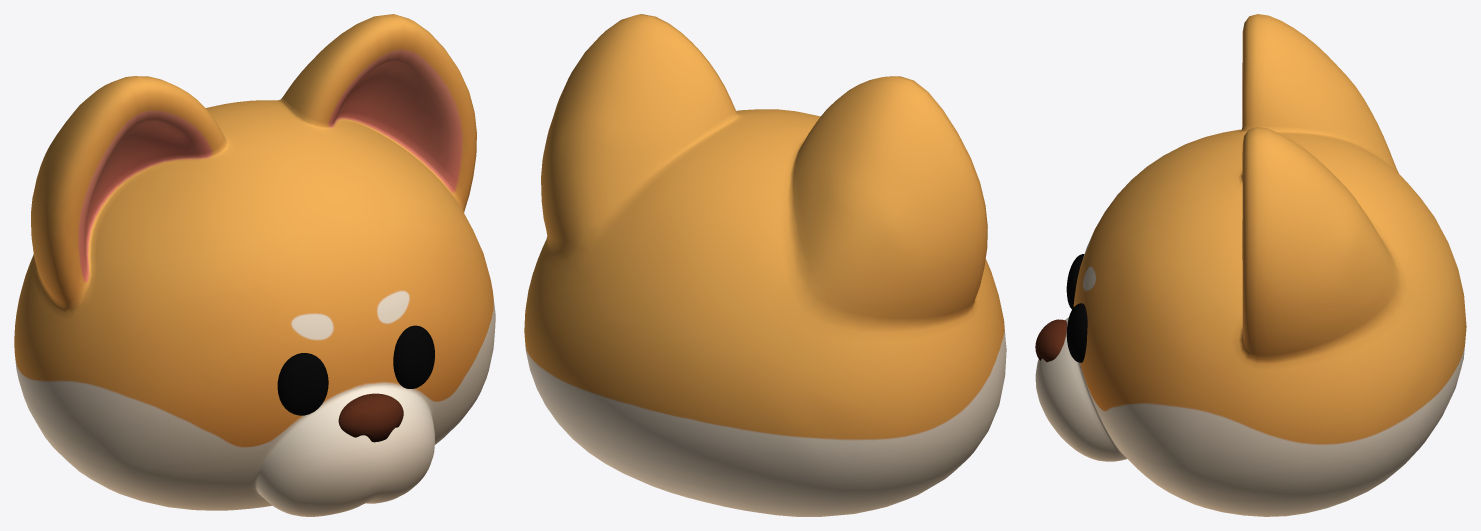
The picture shows the model from 3 angles, left to right: view 1: azimuth 30°, elevation 25°; view 2: azimuth 150°, elevation 25°; view 3: azimuth 270°, elevation 25°; orthographic projection. The views are drawn at different scales.
Parts seen in each view (by area): view 1: ShibaDogHead; view 2: ShibaDogHead; view 3: ShibaDogHead.
Part boxes in pixels (bbox=[...]): ShibaDogHead: bbox=[14, 14, 495, 516]; ShibaDogHead: bbox=[524, 14, 1006, 516]; ShibaDogHead: bbox=[1035, 14, 1466, 516].
Bounding box in the file's own units: 0.752 × 0.7287 × 0.7077.
1 material, 1 textured.
